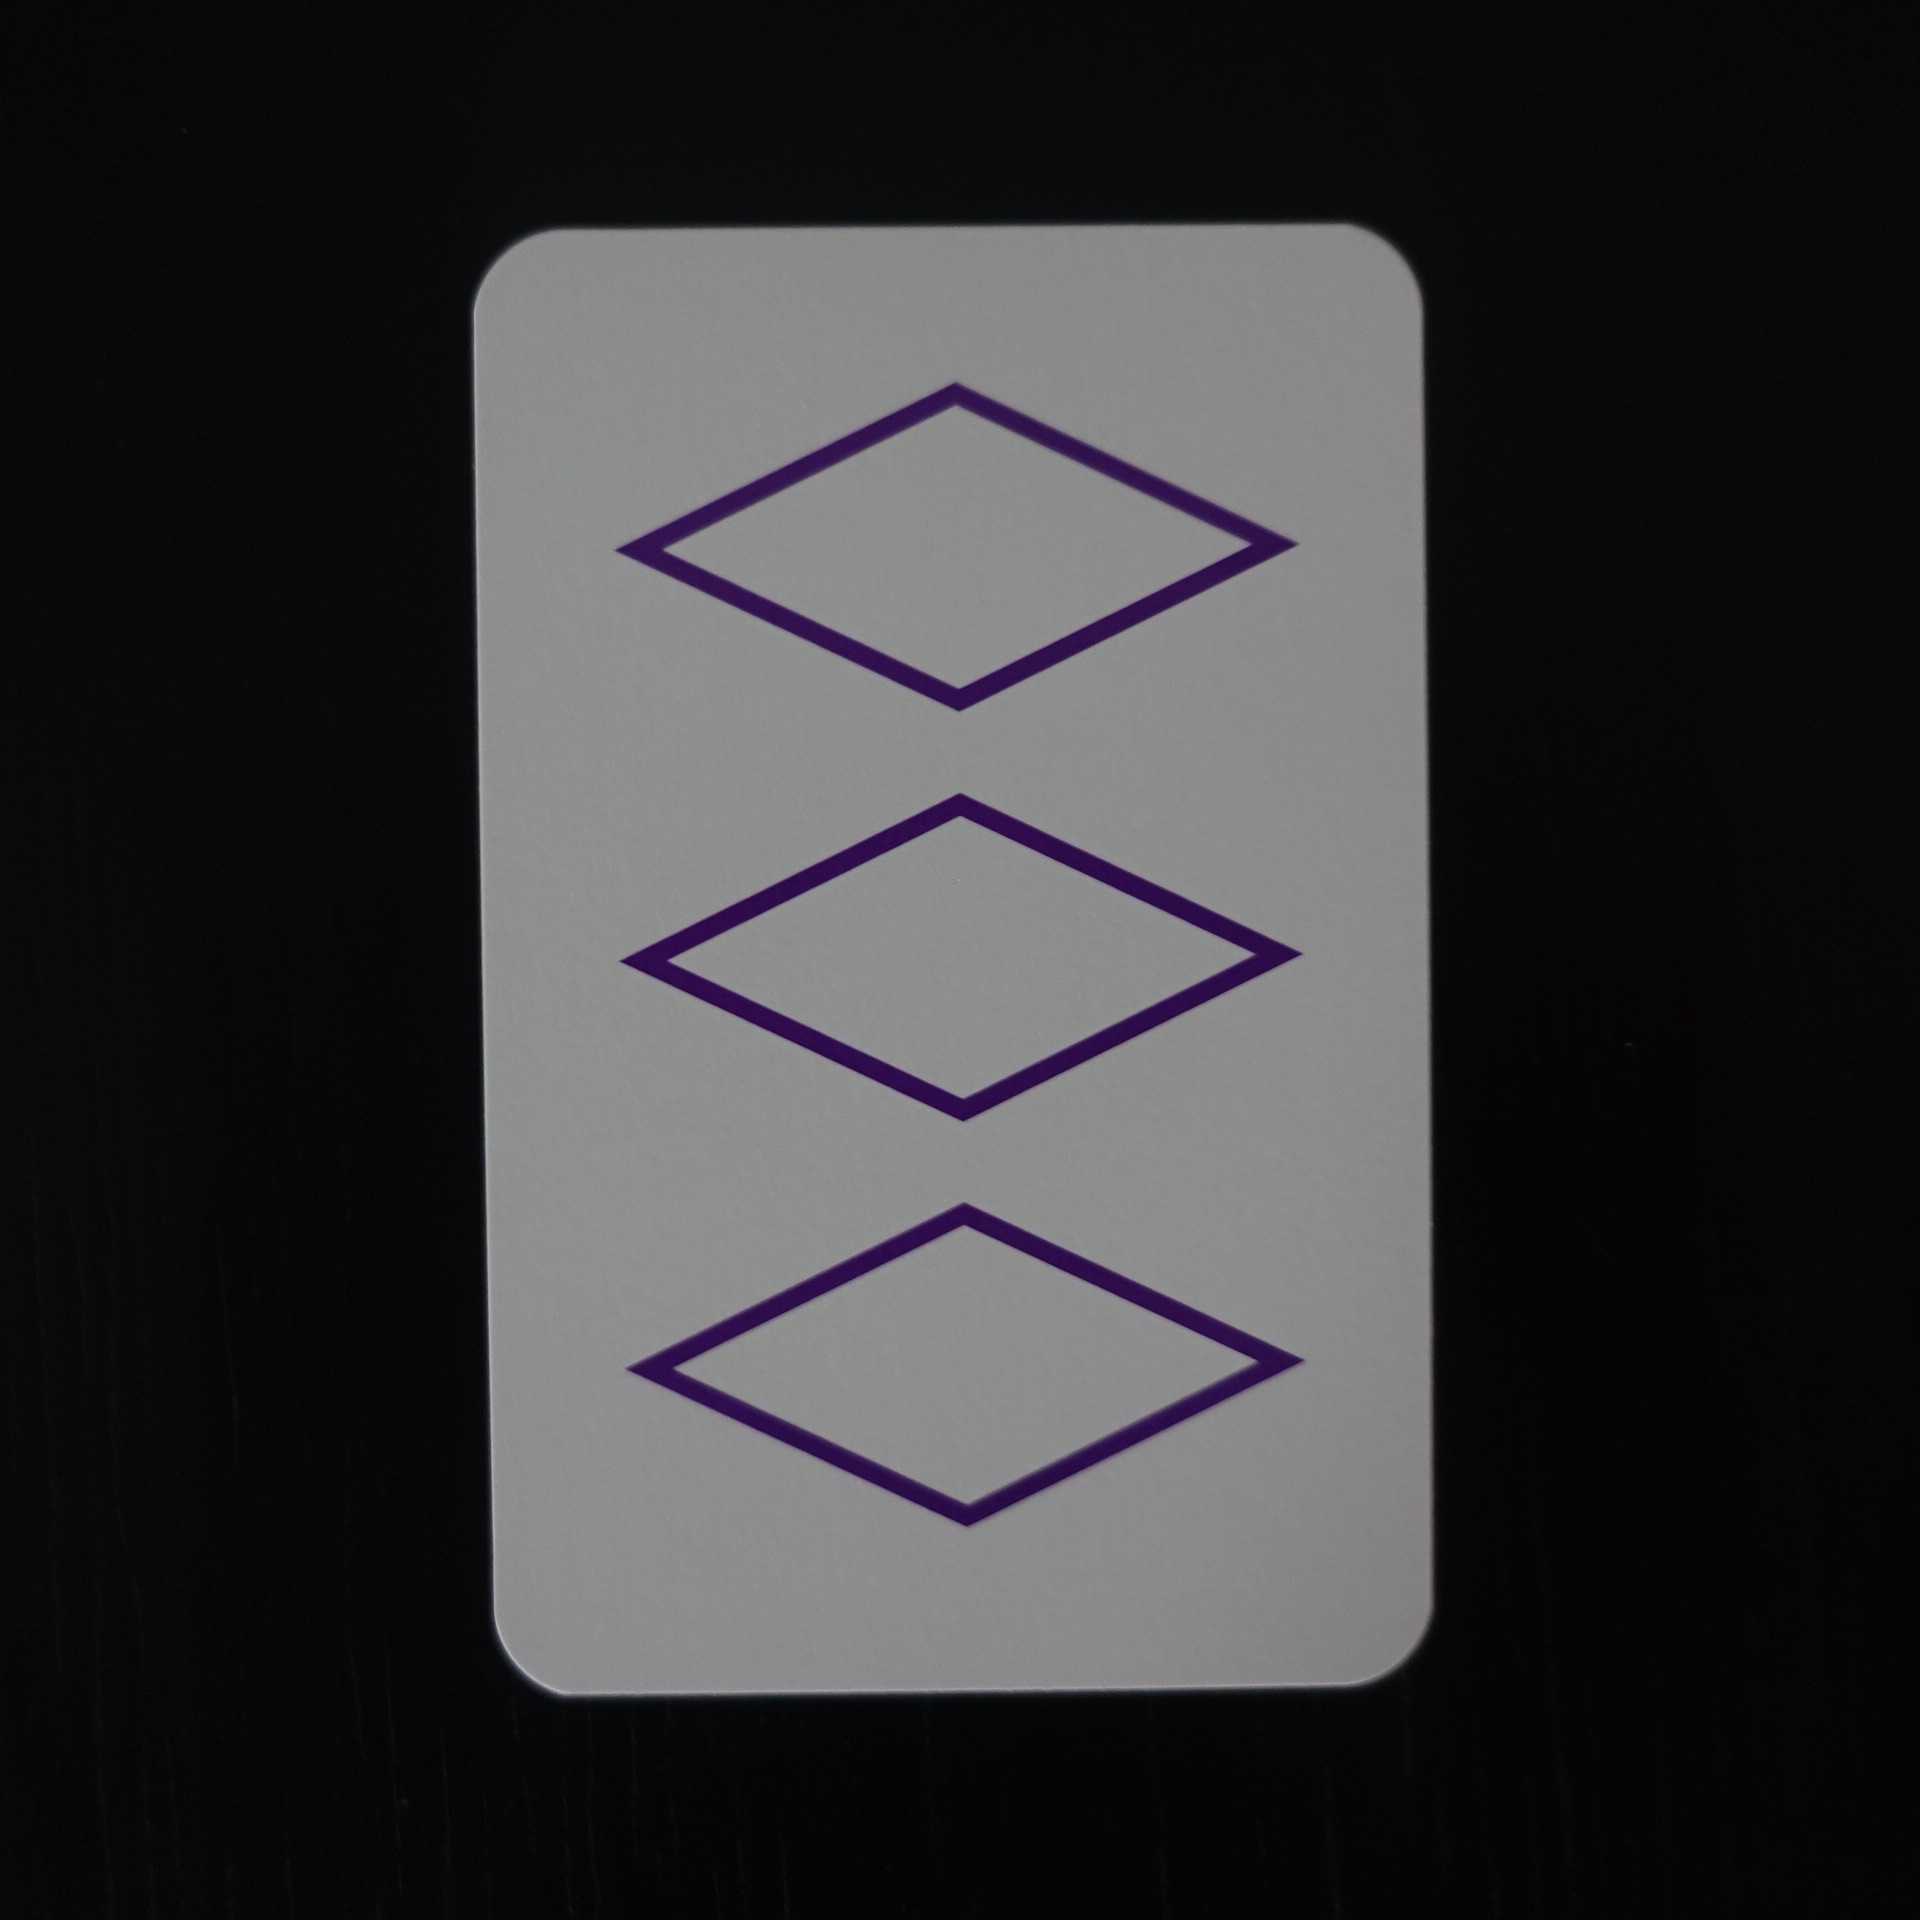c-3-u-d-p: (440, 199, 1466, 1718)
